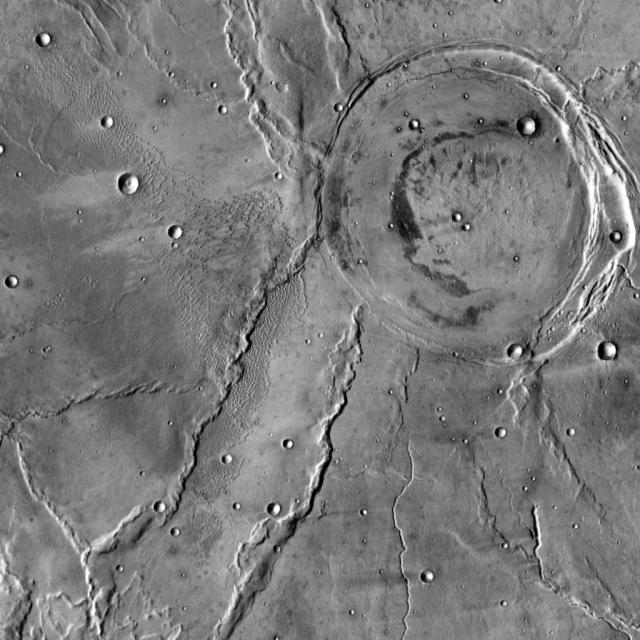crater: (120, 174, 142, 195), (601, 345, 620, 364), (520, 120, 540, 138), (40, 33, 54, 48), (511, 347, 525, 361), (9, 276, 22, 290), (272, 504, 284, 518), (424, 573, 437, 585), (172, 228, 185, 240), (106, 119, 118, 130), (282, 85, 294, 96), (615, 236, 627, 247), (0, 144, 9, 158), (499, 430, 510, 440), (158, 504, 168, 514), (288, 442, 298, 452), (227, 458, 237, 467), (458, 218, 467, 228), (237, 504, 246, 514), (415, 125, 424, 134), (224, 110, 232, 118), (563, 427, 571, 435), (278, 175, 286, 182), (270, 539, 278, 546), (340, 107, 347, 114), (168, 526, 175, 533), (458, 218, 465, 225), (358, 505, 364, 512), (113, 560, 120, 566), (498, 0, 506, 5), (499, 539, 505, 545)
